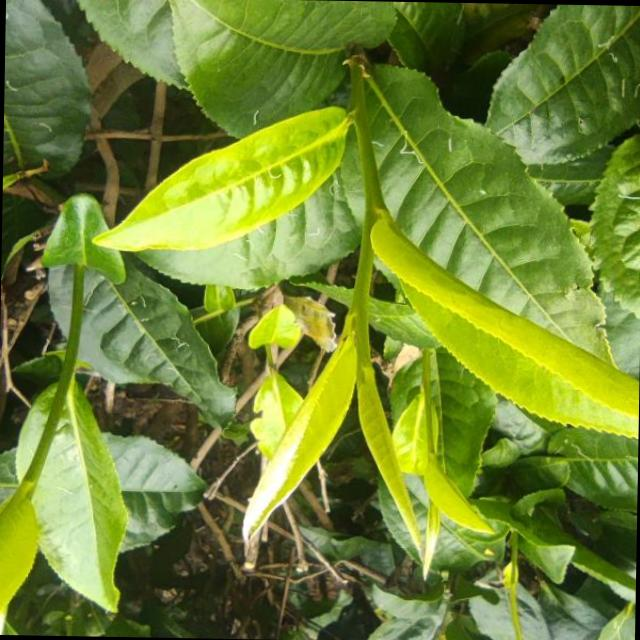Stem: (353, 288, 368, 314)
